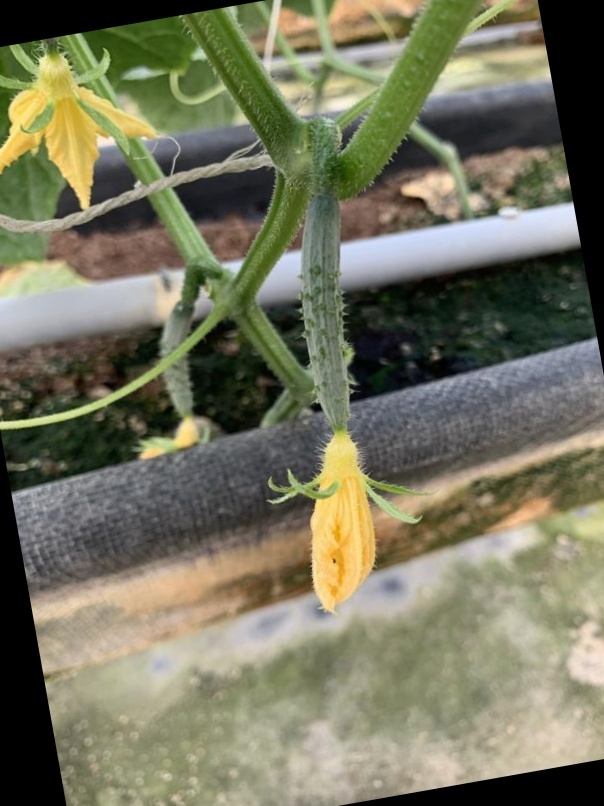bear: (269, 193, 416, 615)
